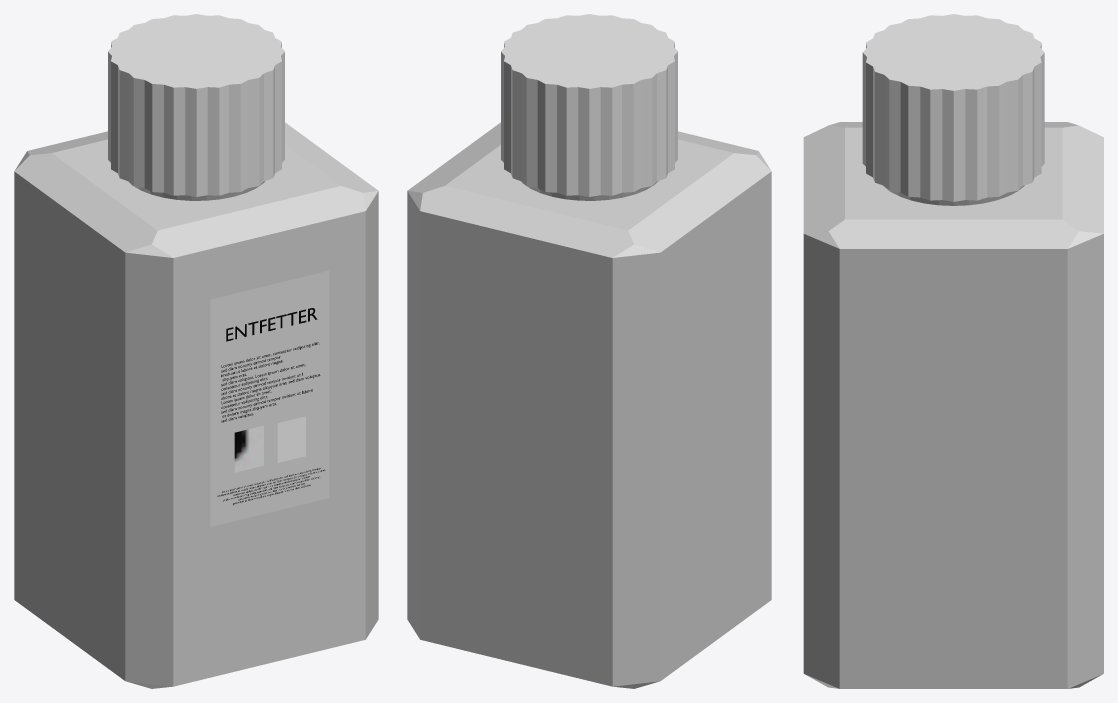
File: EntfetterFBX.fbx
3 views of the same model, side by side, from view 1: azimuth 30°, elevation 25°; view 2: azimuth 150°, elevation 25°; view 3: azimuth 270°, elevation 25° (orthographic). The views are drawn at different scales.
Visible parts, largest first — view 1: Cube, Cylinder.001, Plane, Text.001, Gesundheit, Schädigung, Text.002, Cylinder, Text; view 2: Cube, Cylinder.001, Cylinder; view 3: Cube, Cylinder.001, Cylinder.
Part boxes in pixels (bbox=[...]): Cube: bbox=[14, 122, 378, 688]; Cylinder.001: bbox=[108, 14, 284, 196]; Plane: bbox=[210, 270, 329, 526]; Text.001: bbox=[221, 342, 320, 422]; Gesundheit: bbox=[234, 425, 263, 472]; Schädigung: bbox=[277, 416, 305, 462]; Text.002: bbox=[217, 468, 325, 505]; Cylinder: bbox=[127, 181, 265, 200]; Text: bbox=[226, 308, 317, 341]; Cube: bbox=[407, 122, 771, 688]; Cylinder.001: bbox=[501, 14, 677, 196]; Cylinder: bbox=[520, 181, 658, 200]; Cube: bbox=[803, 122, 1103, 688]; Cylinder.001: bbox=[862, 14, 1044, 201]; Cylinder: bbox=[883, 185, 1024, 205].
Size of the model in its own units: 233 by 502 by 236.
5 materials, 2 textured.
